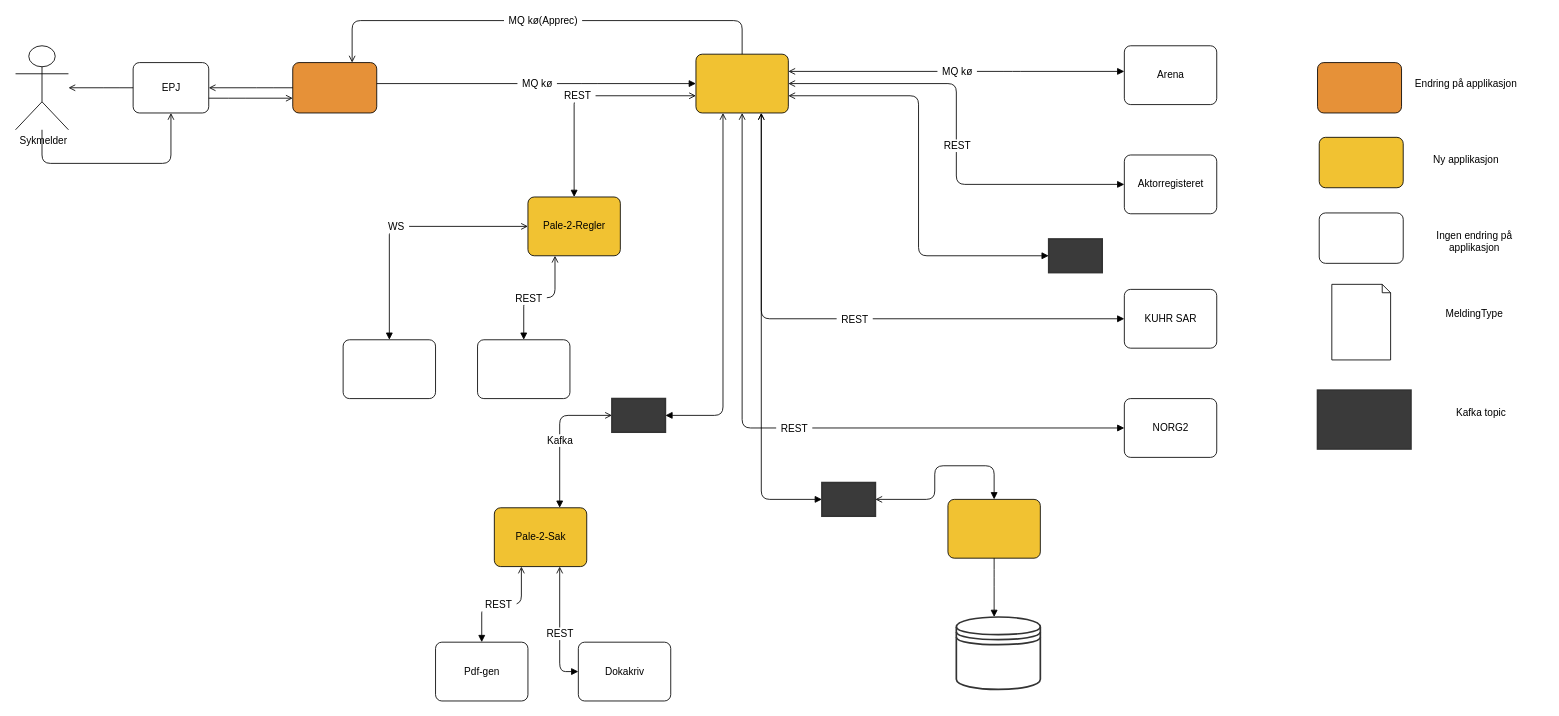
This 1559x716 diagram has some shape labels left out. The shapes that lost their labels are listed below. From the top down, each one's box as (x1, y1, x2, y2) in pixels, then its label:
(292, 62, 377, 113): Elektronisk Mottak
(695, 53, 788, 113): Pale-2
(342, 339, 436, 399): TPS
(477, 339, 570, 399): Btsys
(947, 499, 1040, 558): Pale-2-Register
